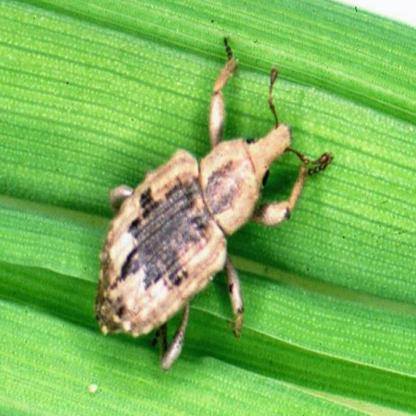rice-bug: (95, 88, 299, 370)
